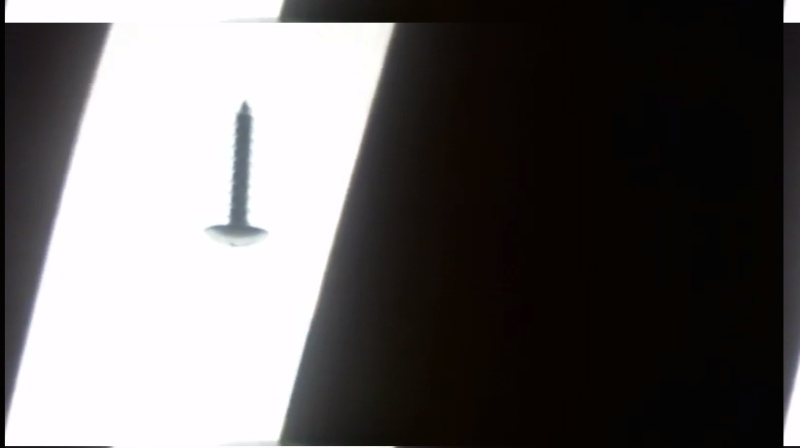S003: (202, 97, 272, 252)
